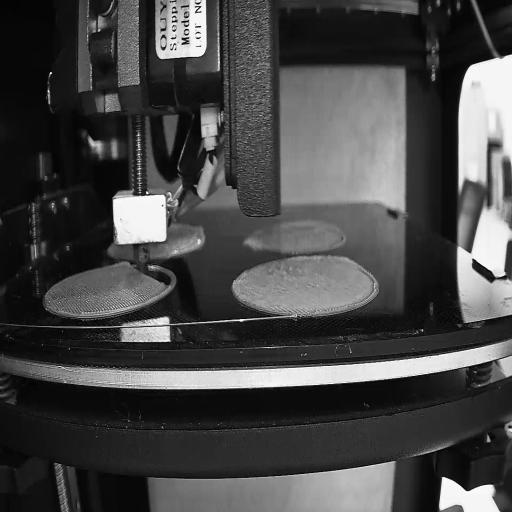over_extrusion: (359, 258, 380, 308), (114, 260, 133, 271)
